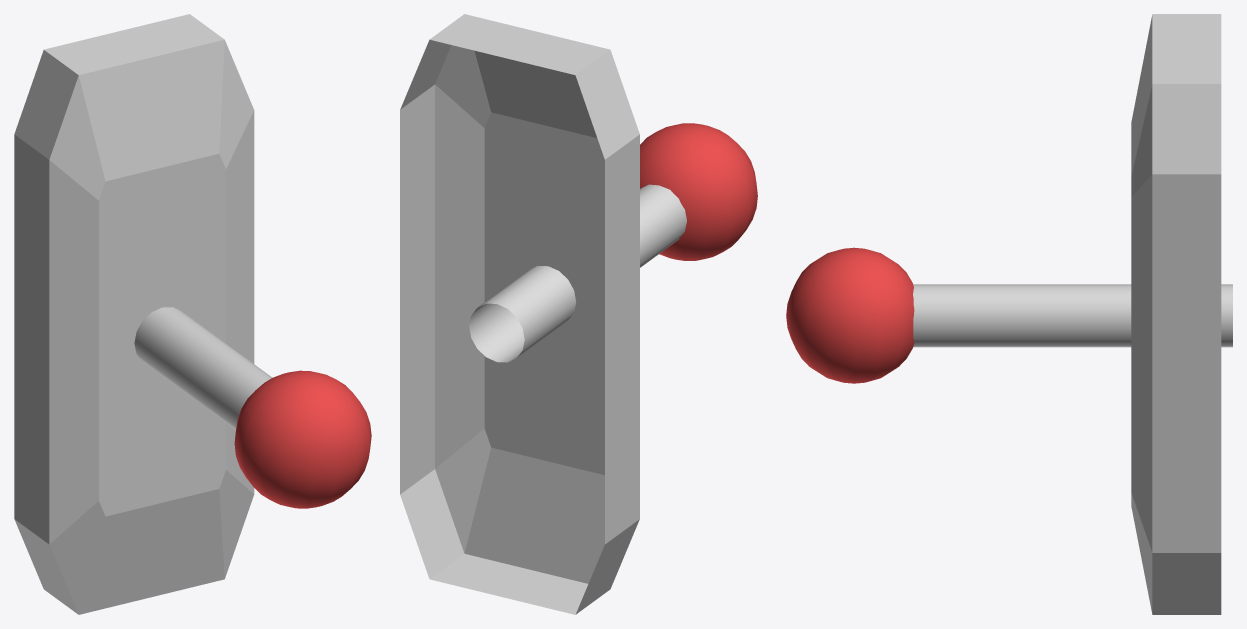
Rendered from Button.fbx.
The picture shows the model from 3 angles, left to right: view 1: azimuth 30°, elevation 25°; view 2: azimuth 150°, elevation 25°; view 3: azimuth 270°, elevation 25°; orthographic projection.
Visible parts, largest first — view 1: ButtonBase, Knob; view 2: ButtonBase, Knob; view 3: ButtonBase, Knob.
Boxes of the visible parts, x1,y1,x2,y2 form: ButtonBase: (14, 14, 254, 614); Knob: (134, 307, 371, 508); ButtonBase: (400, 14, 639, 614); Knob: (469, 123, 757, 362); ButtonBase: (1131, 14, 1221, 614); Knob: (786, 247, 1232, 383).
Size of the model in its own units: 4.66 by 11.73 by 8.94.
